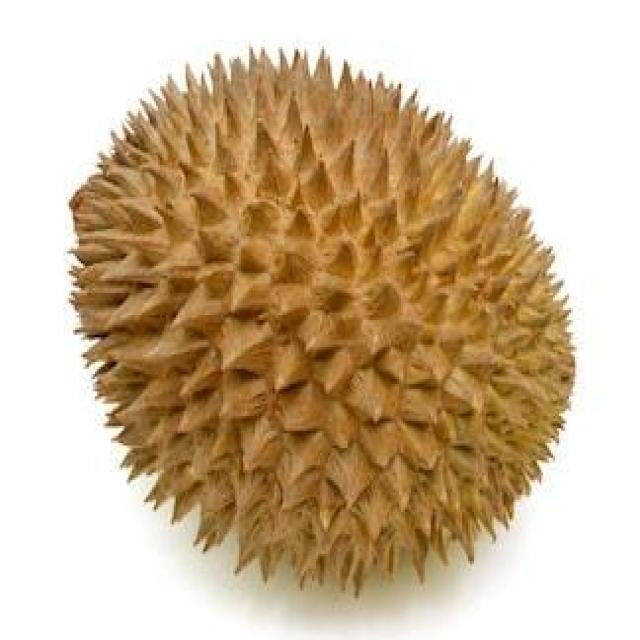mature: (71, 55, 574, 591)
